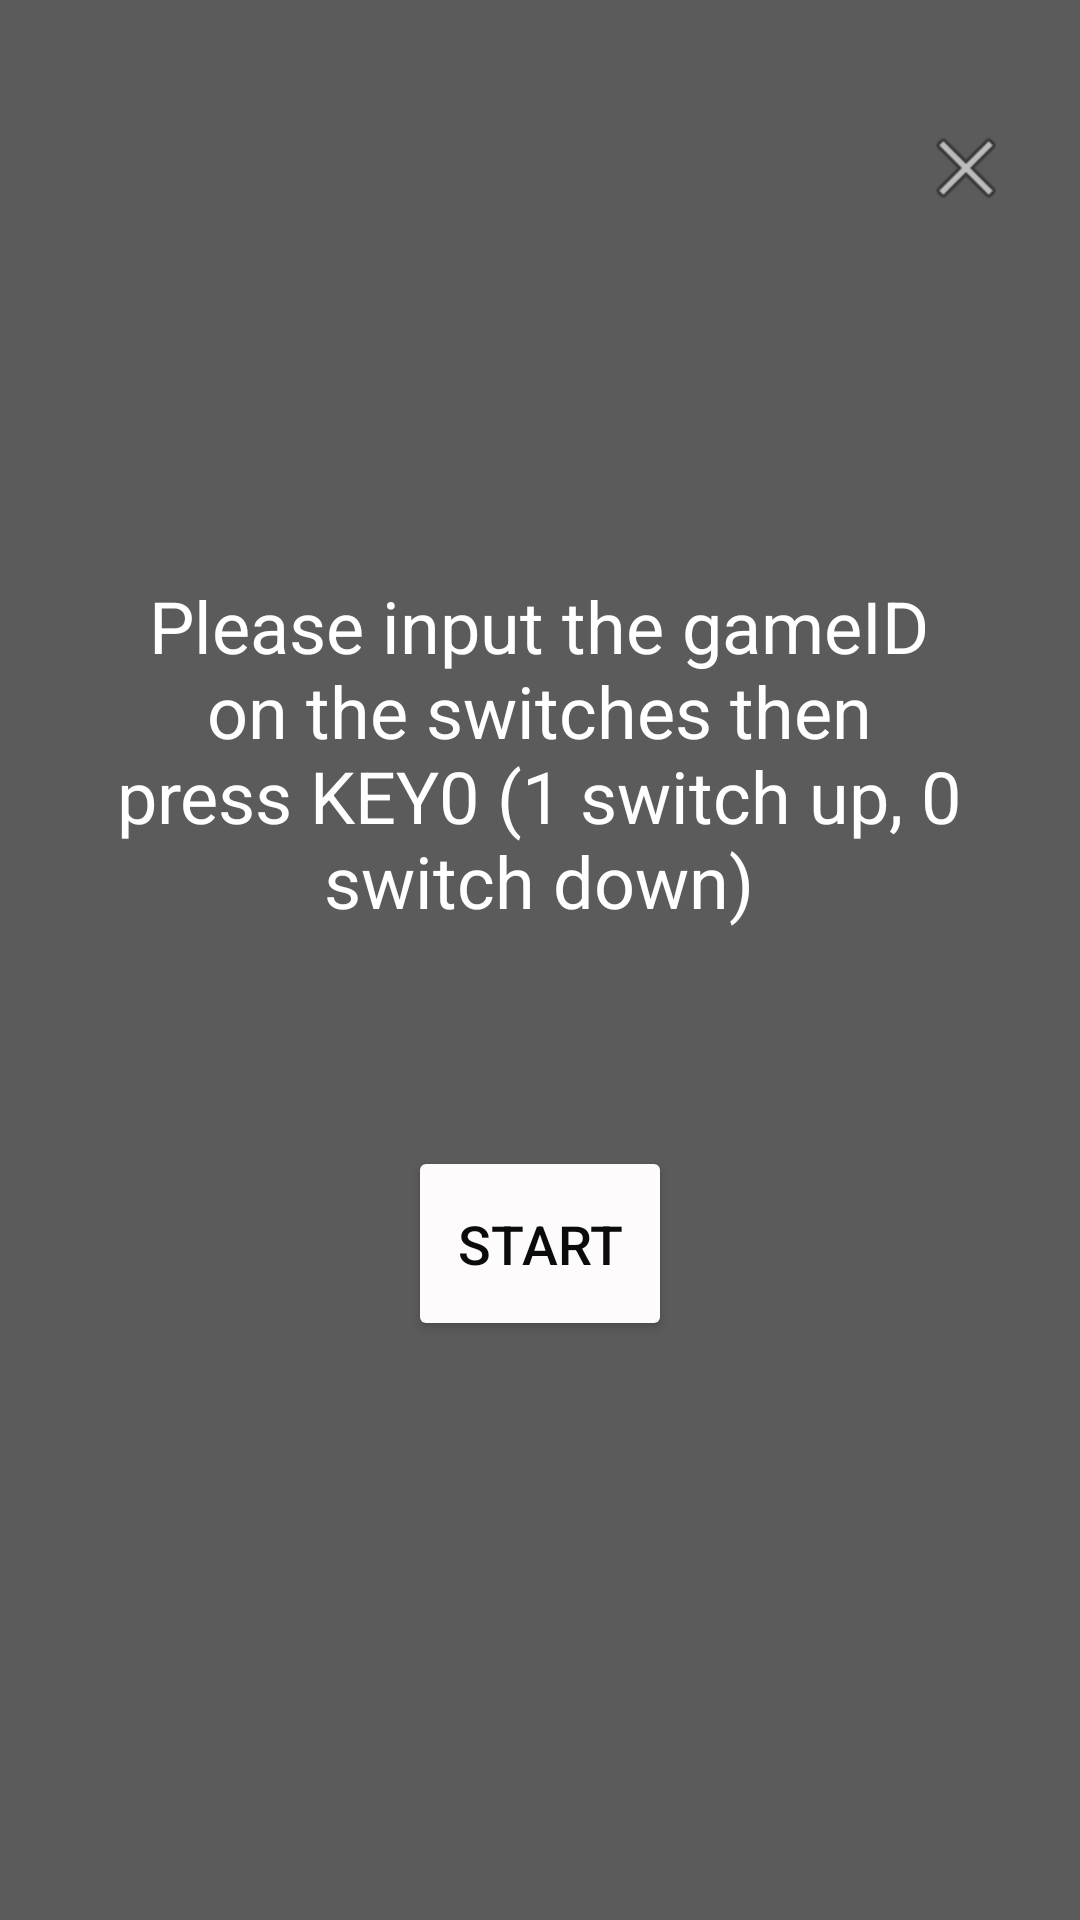

Point at icon controls on the screen. Image size 1080px x 1920px, points as (x=x, y=y).
close clear cancel: (x=966, y=168)
